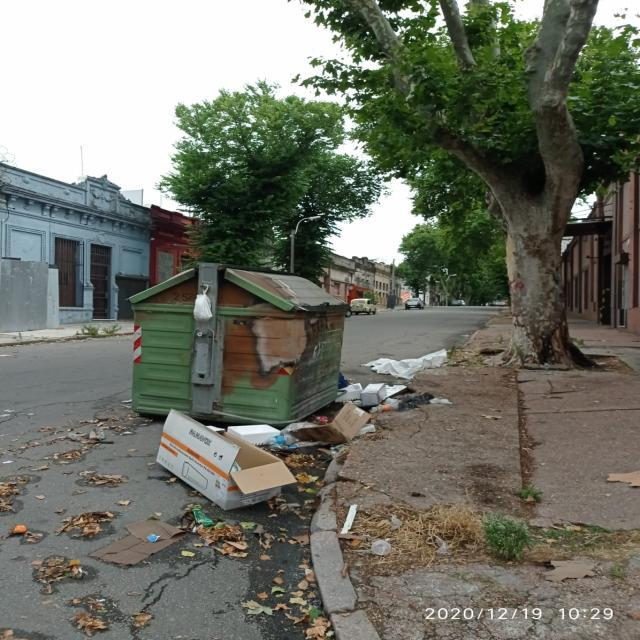garbage: (146, 396, 329, 518), (342, 345, 452, 440)
